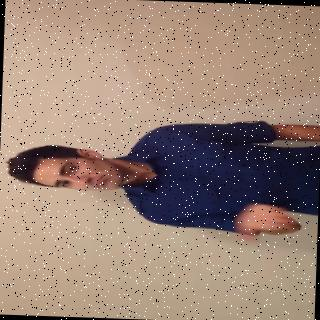ThankYou: (1, 110, 320, 240)
